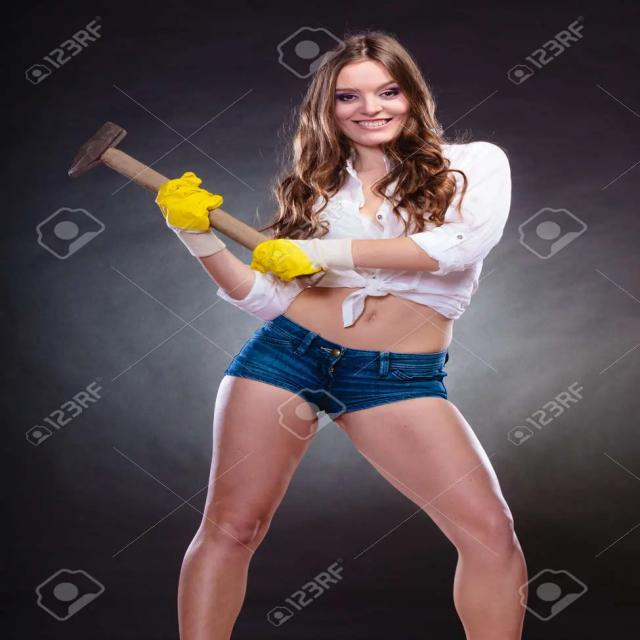hammer: (57, 114, 340, 297)
